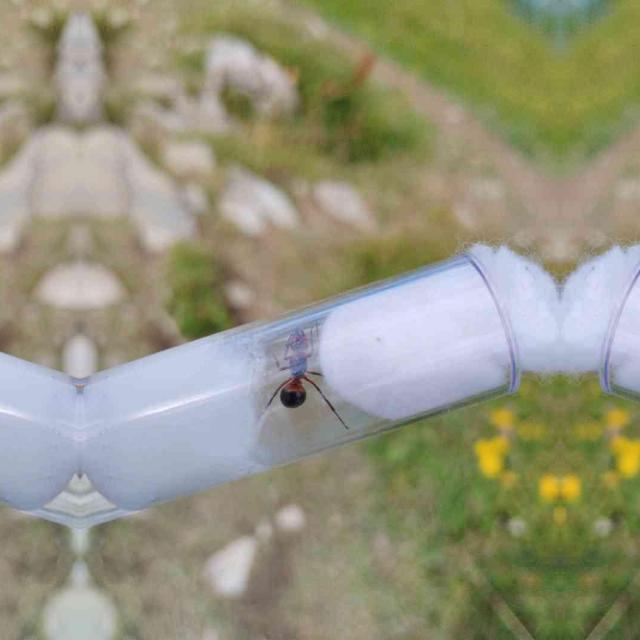Formica: (259, 326, 331, 420)
